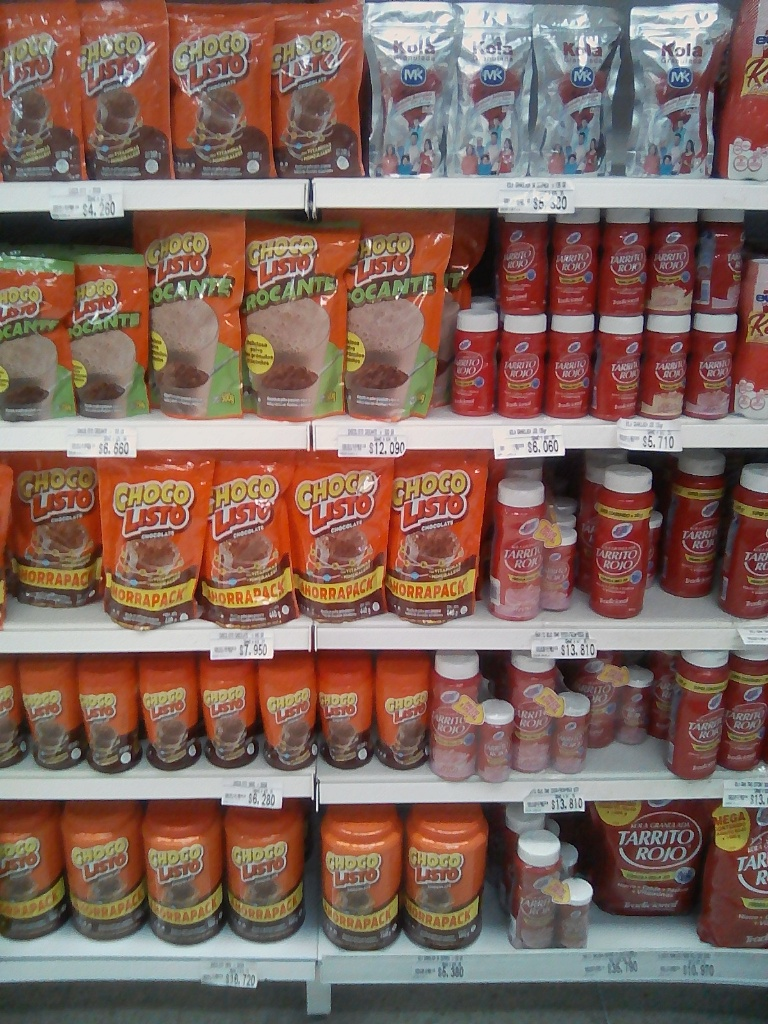COL0170102DYP25000: (3, 252, 78, 418)
COL0170102DYP50000: (133, 210, 246, 416)
COL0170103DYP44000: (3, 449, 105, 609)
COL0170103TRR00100: (56, 801, 142, 948)
COL0170103TRR30000: (13, 658, 83, 767)
